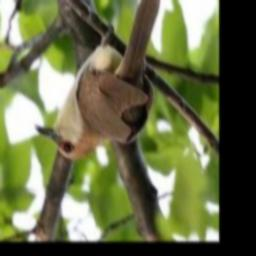Cuckoo: (36, 0, 160, 162)
